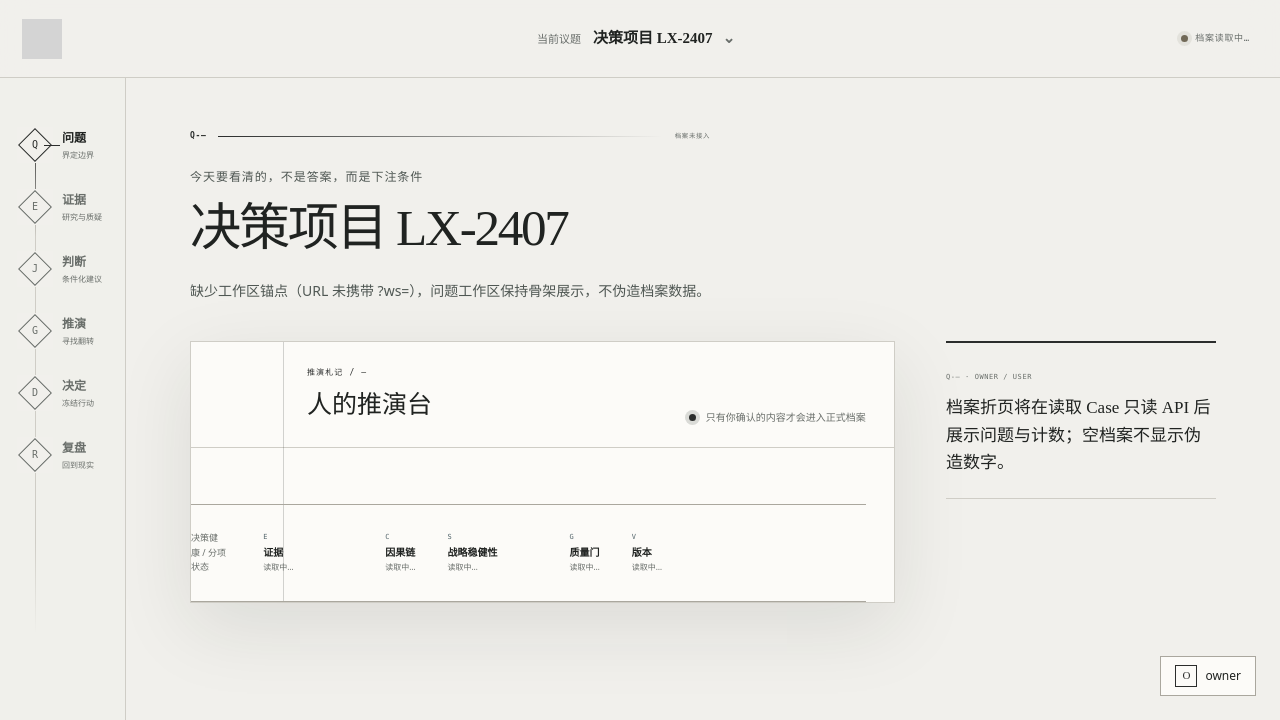
Test case: ProjectDrawer + Session B shell completion (Task 11 Phase 0) › renders a retryable error state that recovers on retry
Click the button "决策项目 LX-2407 ⌄" at (664, 38), box [593,19,735,58]
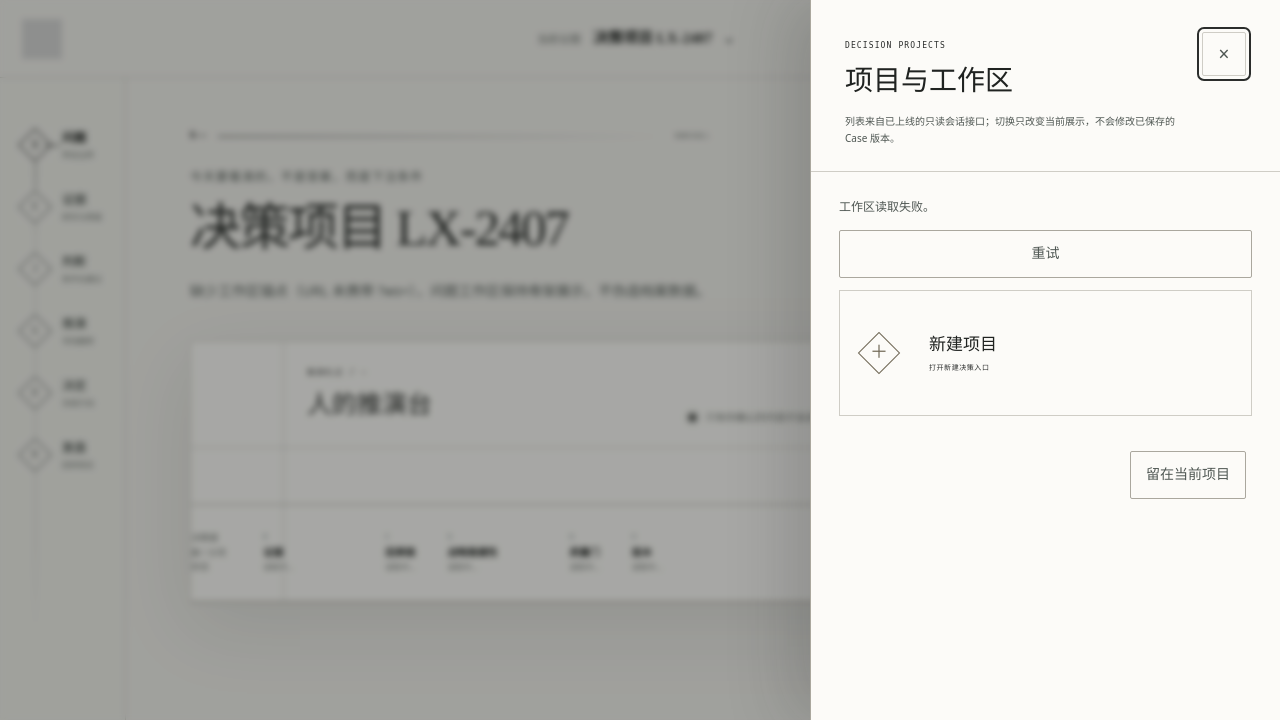
Result: the message reads "工作区读取失败。" at [839,198,935,215]
Click the button "重试" at (1046, 254), box [839,230,1252,278]
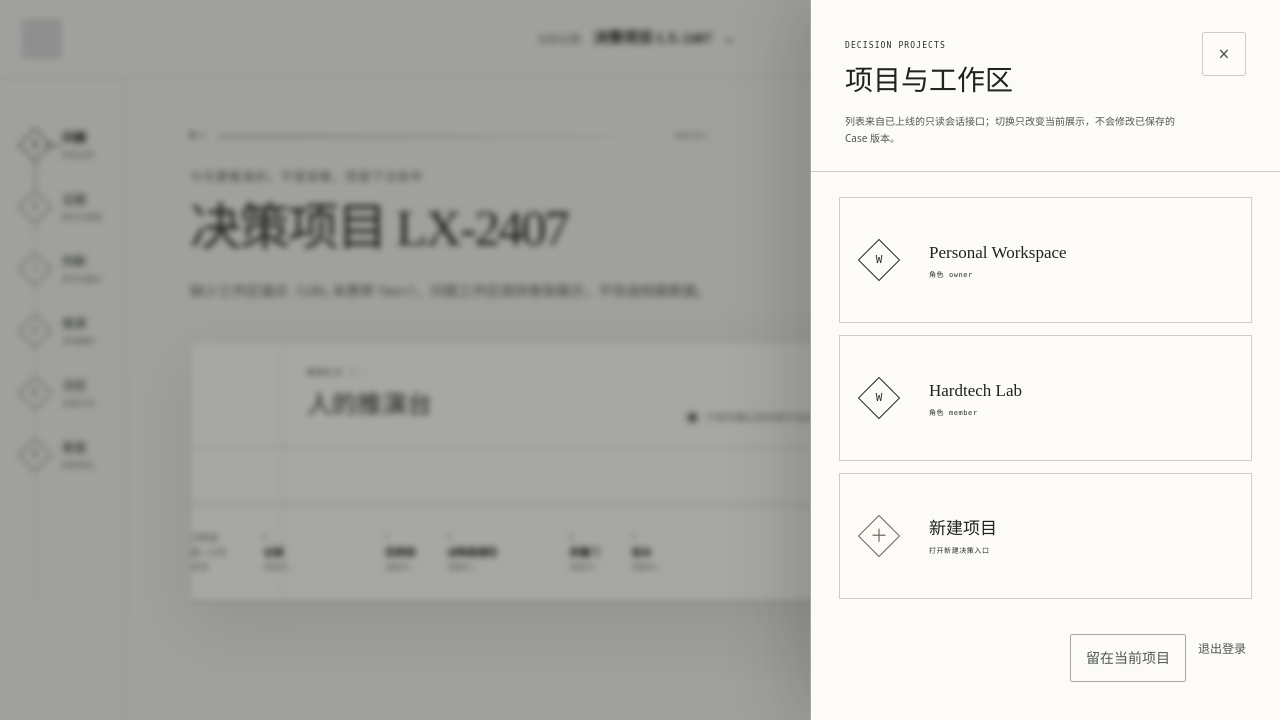
Result: the text "Personal Workspace" is shown at [929,243,1067,262]
